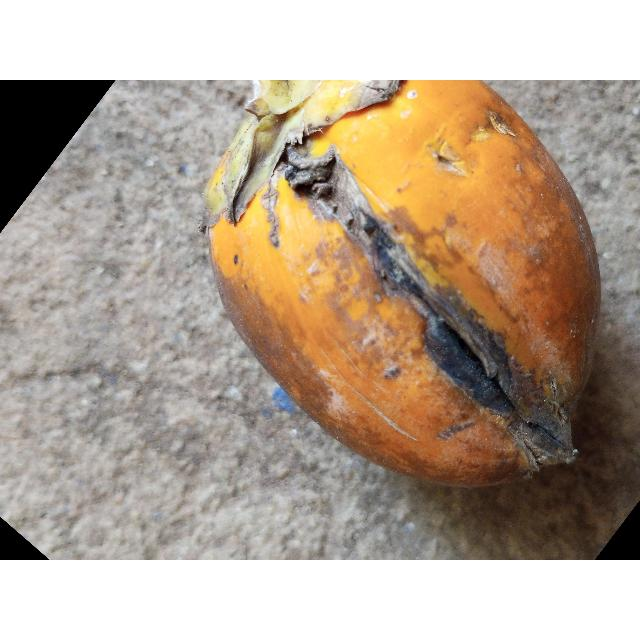damaged: (203, 80, 602, 491)
